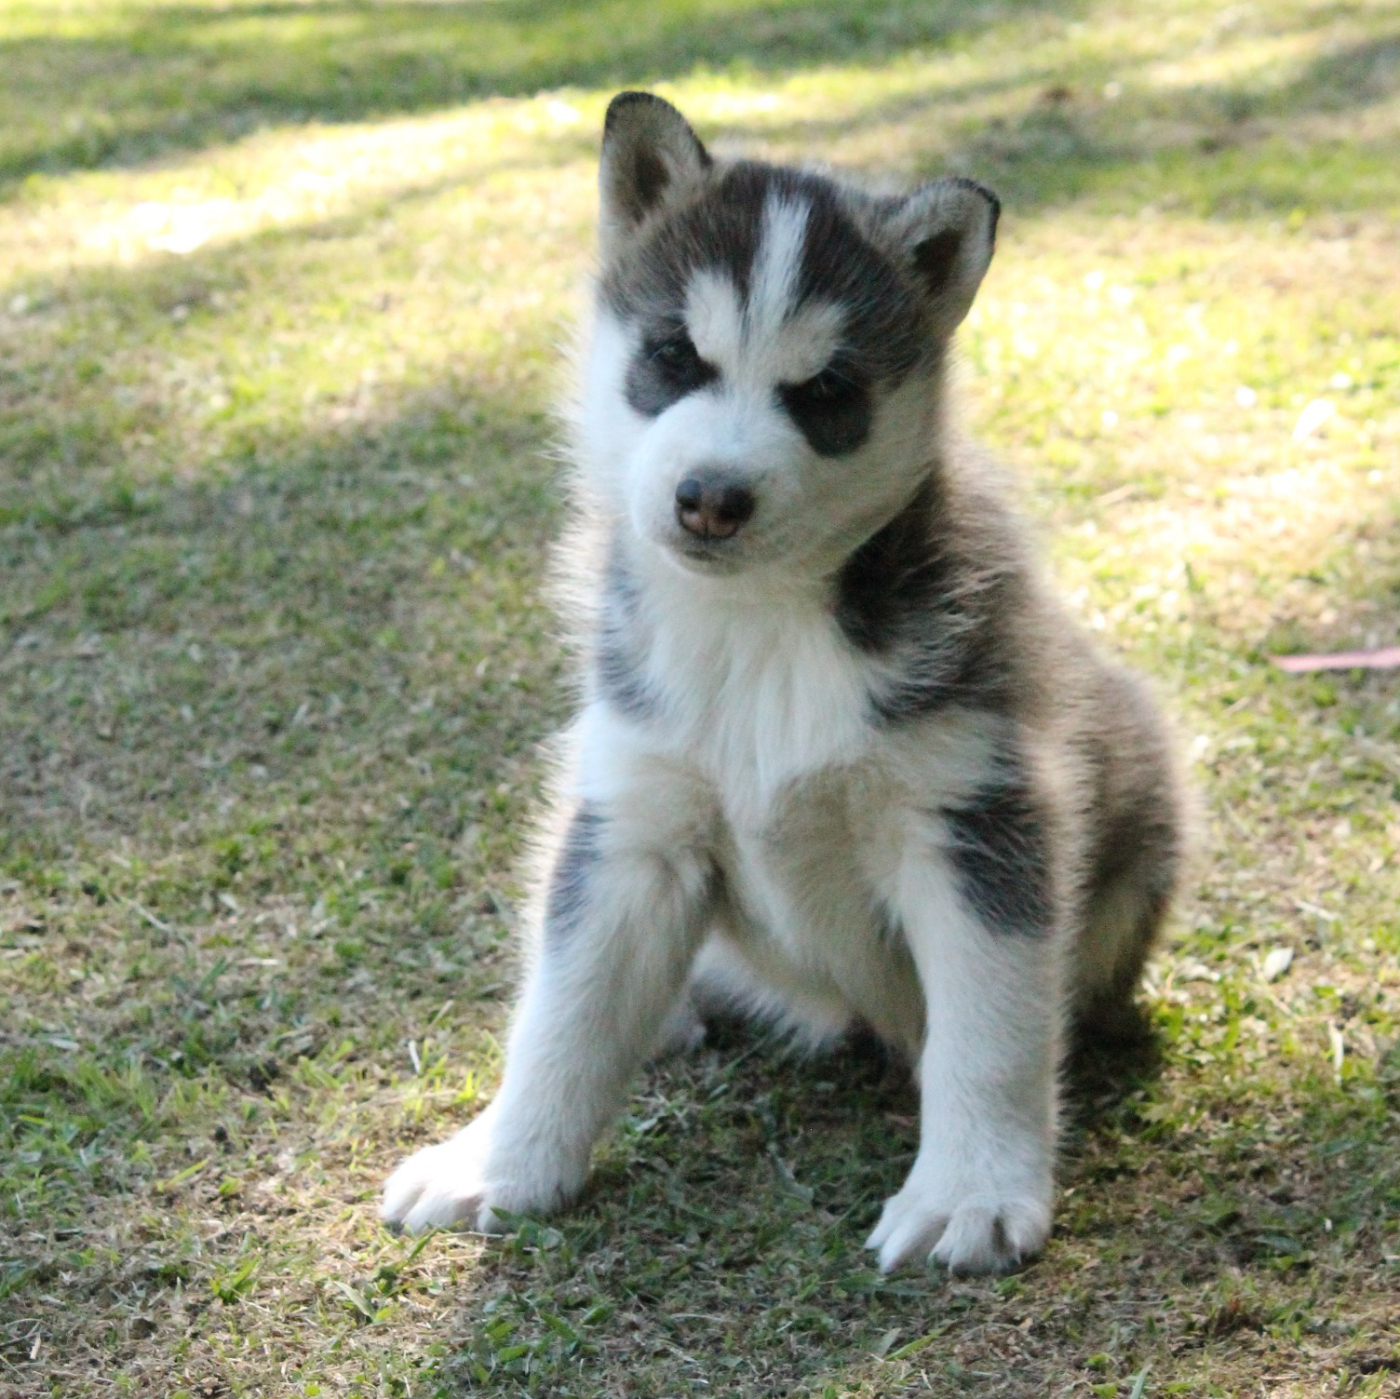husky: (519, 55, 1075, 952)
